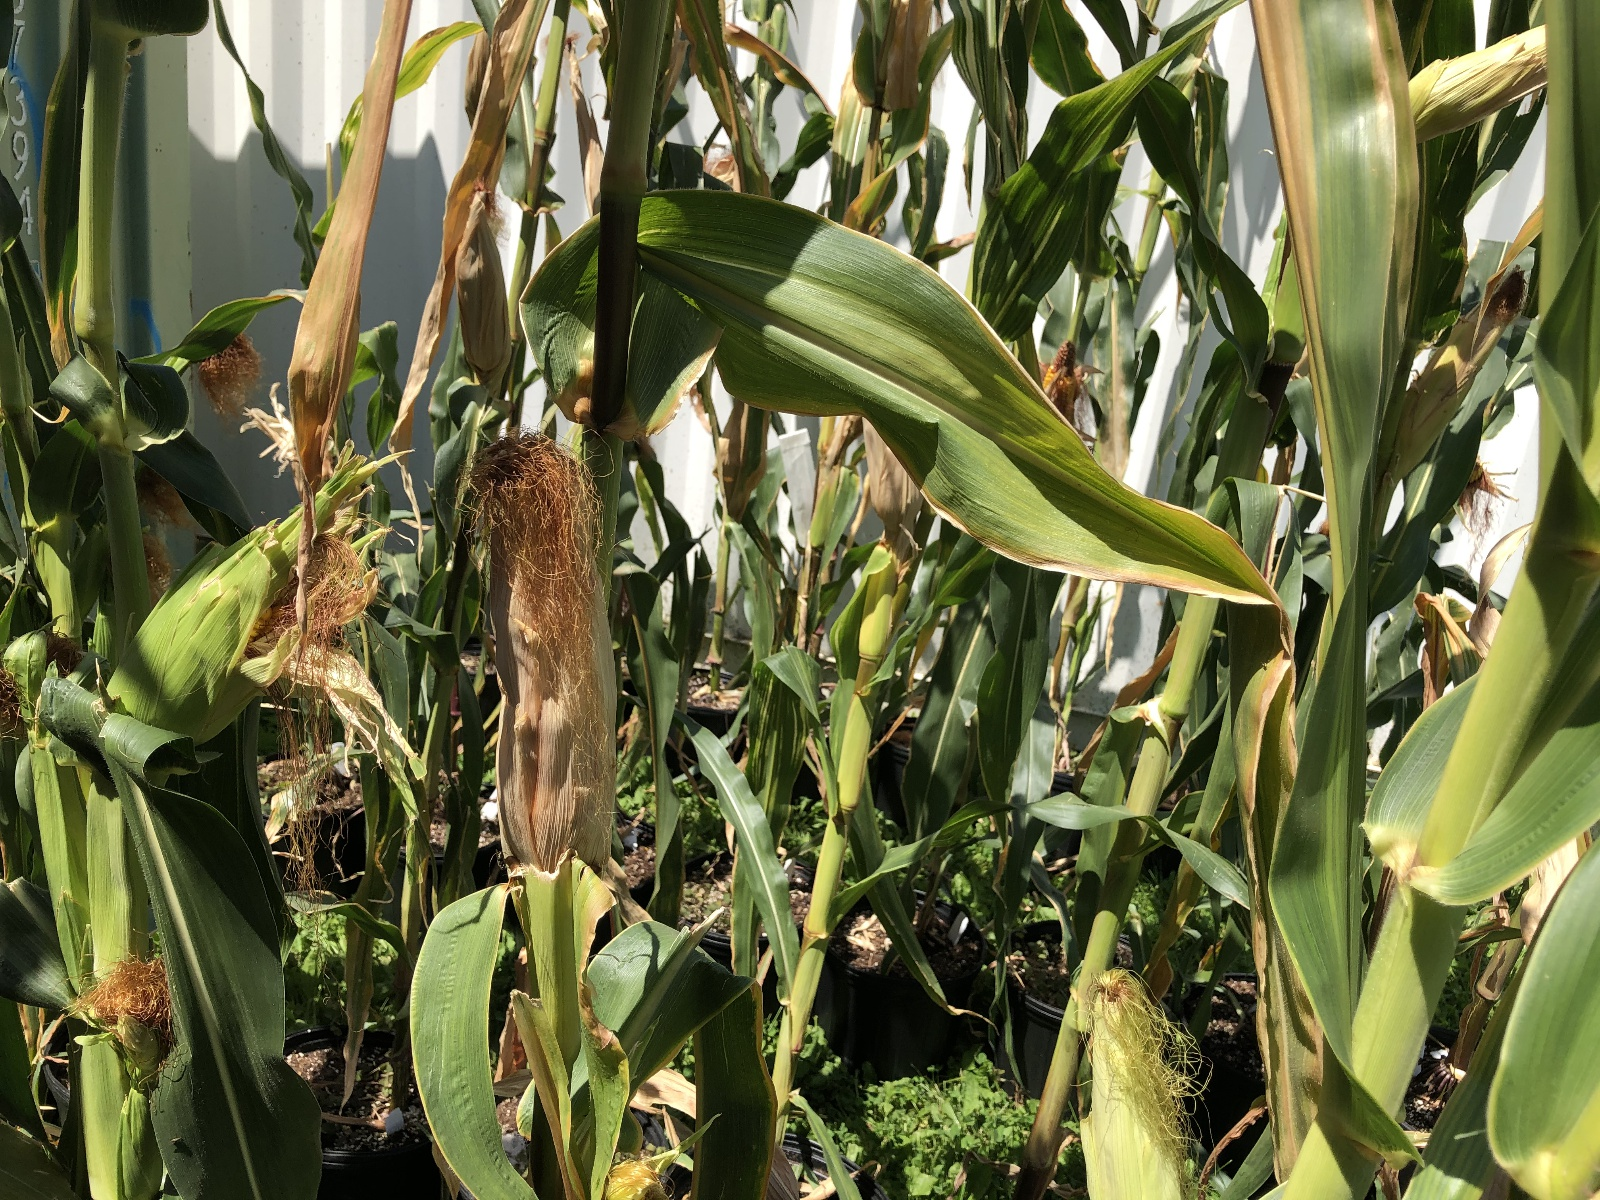ear: (98, 454, 393, 737), (472, 430, 624, 871), (1065, 963, 1220, 1200), (1376, 258, 1531, 492), (94, 955, 184, 1194), (446, 182, 519, 376), (1037, 323, 1087, 424)
